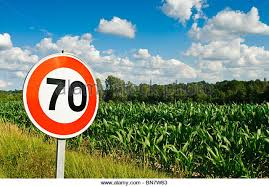Speed_limit_70km: (23, 52, 99, 138)
